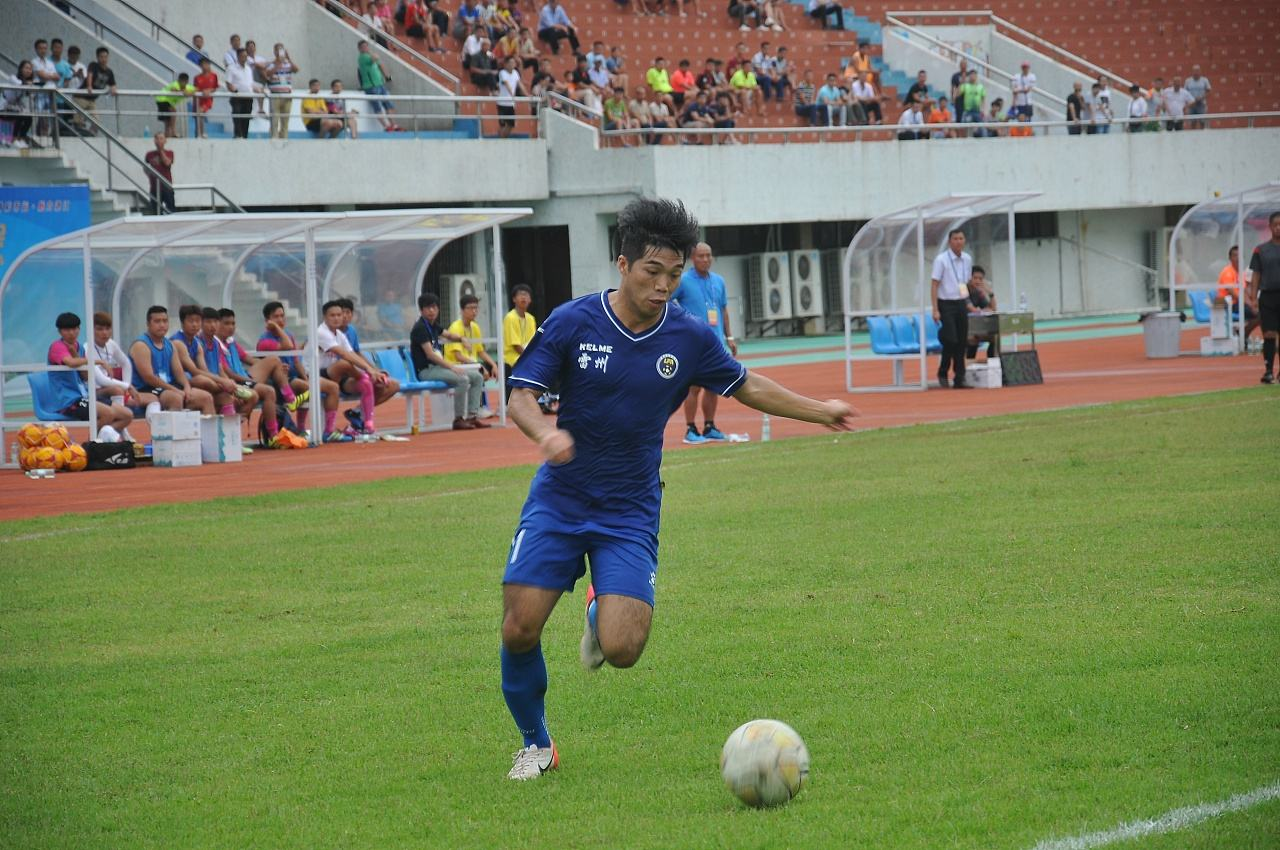football: (721, 721, 814, 808)
